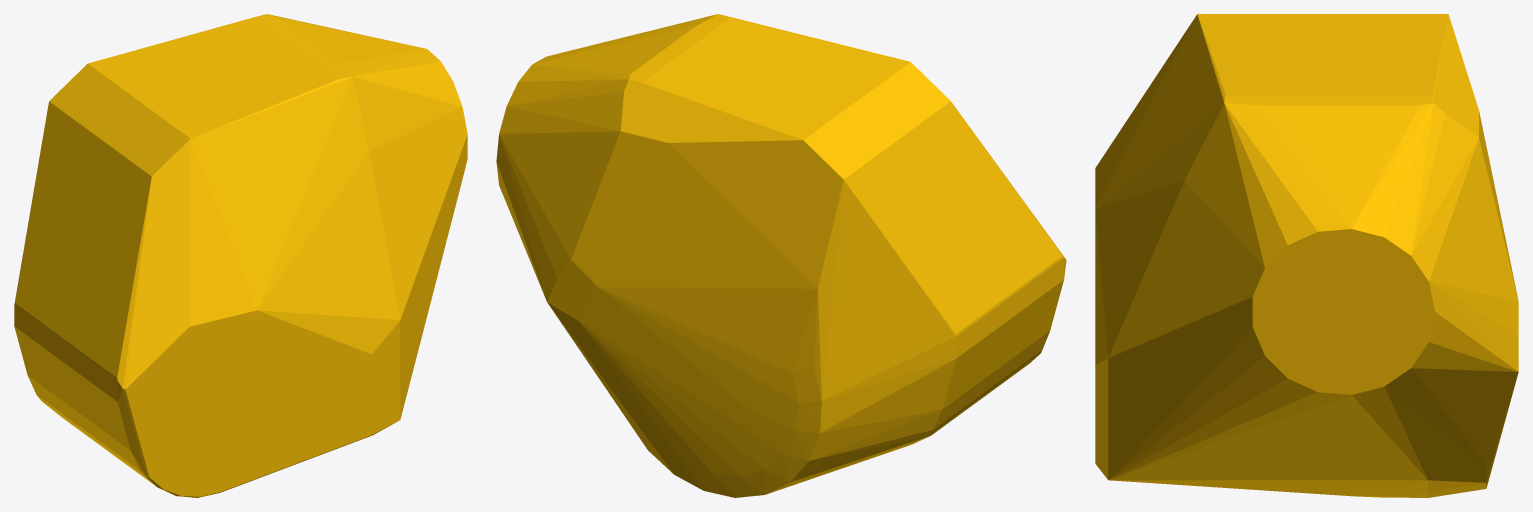
3 views of the same model, side by side, from view 1: azimuth 30°, elevation 25°; view 2: azimuth 150°, elevation 25°; view 3: azimuth 270°, elevation 25° (orthographic). The views are drawn at different scales.
Visible parts, largest first — view 1: Link 3; view 2: Link 3; view 3: Link 3.
Boxes of the visible parts, left/top/right/bottom form: Link 3: left=14, top=14, right=467, bottom=497; Link 3: left=496, top=14, right=1066, bottom=497; Link 3: left=1095, top=14, right=1518, bottom=497.
Size of the model in its own units: 0.5107 by 0.374 by 0.4327.
